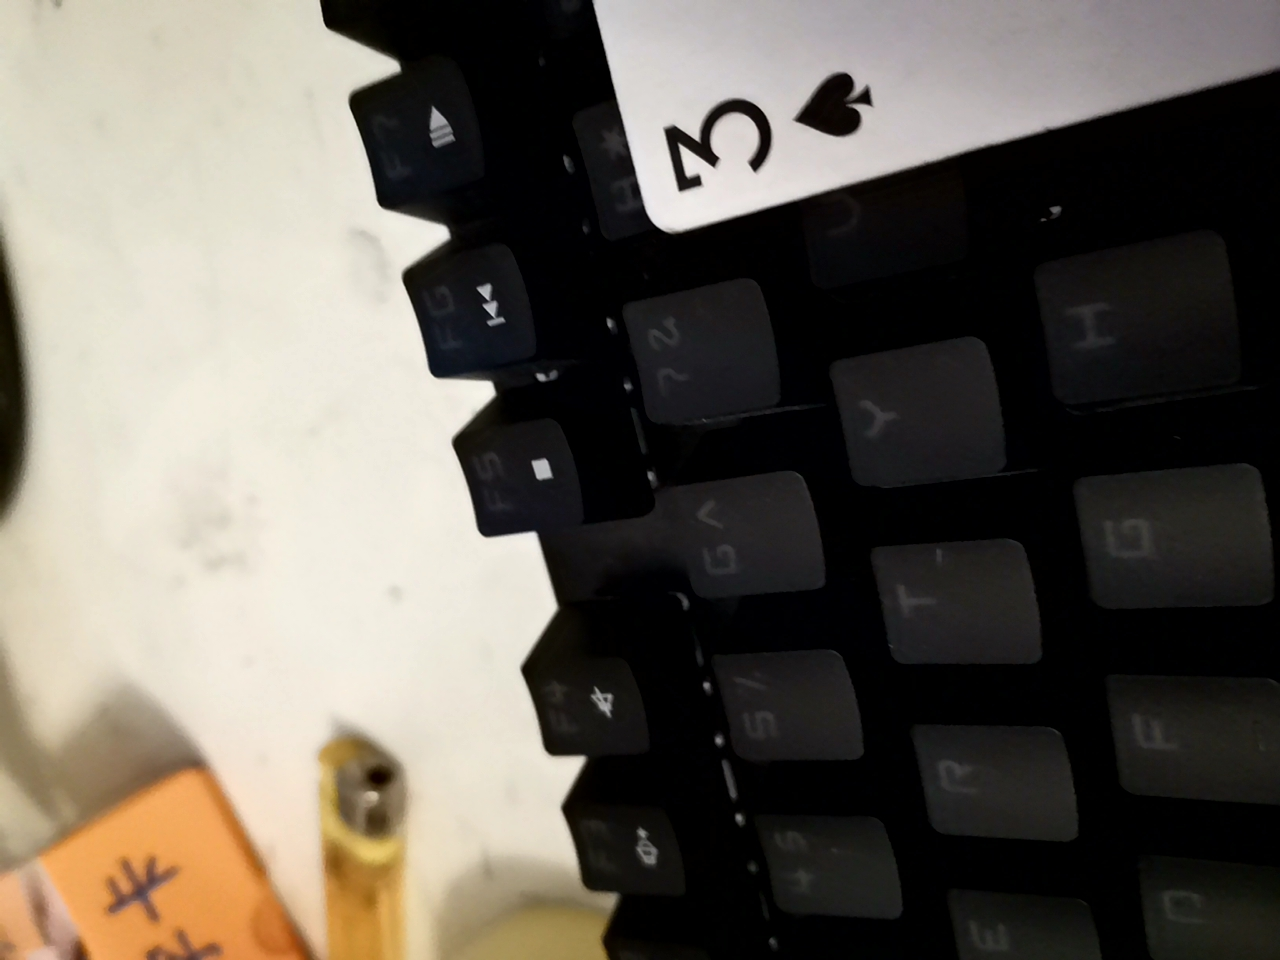ht 3: (577, 0, 1263, 281)
